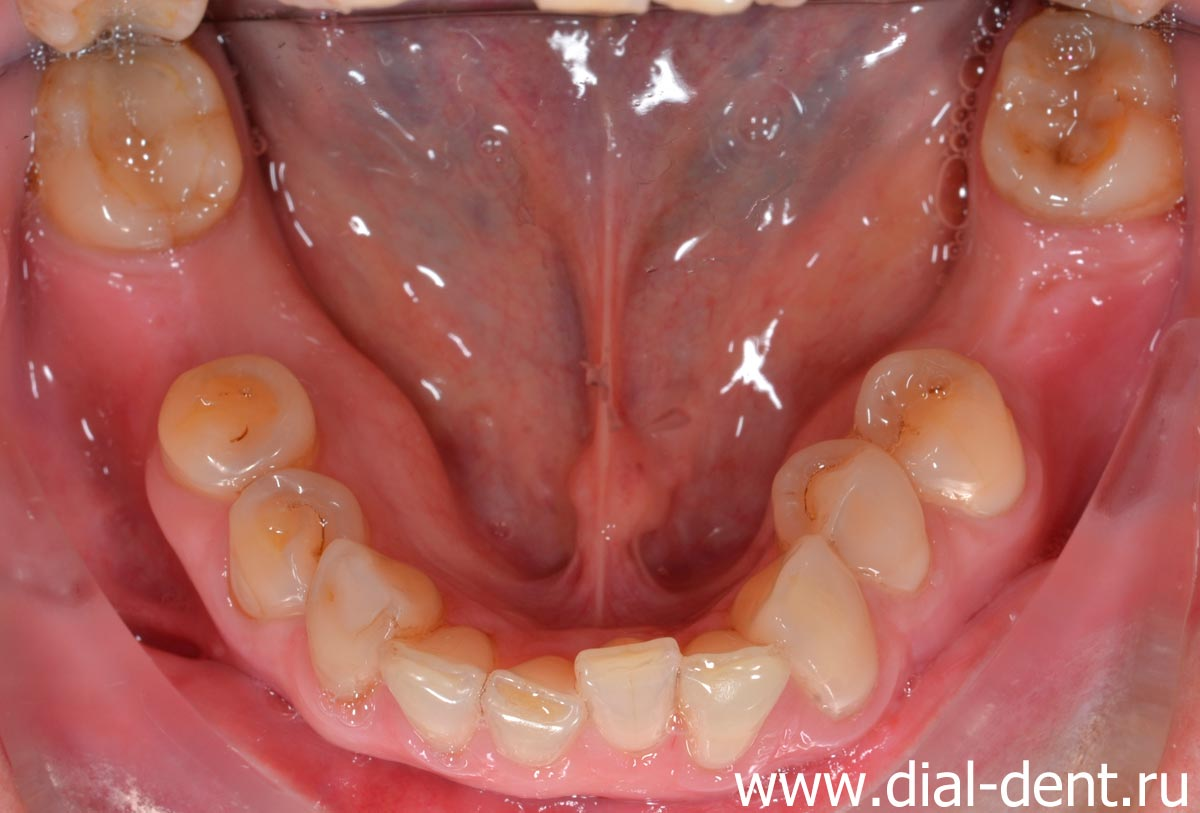LL1BC_decay: (777, 439, 925, 581)
LL1M_decay: (954, 225, 1101, 388)
LL2BC_decay: (858, 352, 1022, 505)
LL2M_decay: (994, 14, 1170, 215)
LLCI_healthy: (583, 638, 680, 746)
LLC_healthy: (762, 536, 878, 686)
LLLI_healthy: (678, 635, 785, 768)
LR1BC_decay: (231, 473, 334, 614)
LR1M_decay: (126, 255, 288, 363)
LR2BC_decay: (160, 355, 311, 483)
LR2M_decay: (40, 61, 239, 240)
LRCI_healthy: (485, 657, 581, 763)
LRC_decay: (308, 543, 402, 702)
LRLI_healthy: (381, 630, 489, 754)
